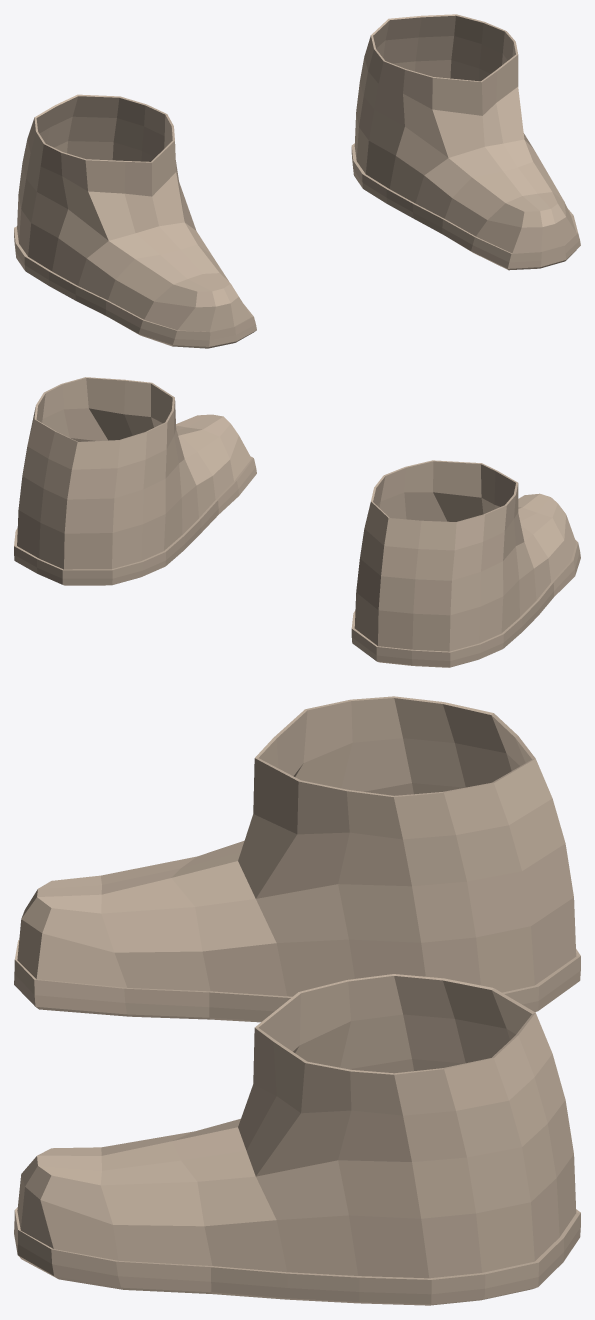
Rendered from Shoes3.fbx.
3 views of the same model, one above another, from view 1: azimuth 30°, elevation 25°; view 2: azimuth 150°, elevation 25°; view 3: azimuth 270°, elevation 25° (orthographic). The views are drawn at different scales.
Visible parts, largest first — view 1: Shoes3; view 2: Shoes3; view 3: Shoes3.
Part boxes in pixels (x1,y1,x2,y2): Shoes3: (14,14,580,348); Shoes3: (14,377,580,667); Shoes3: (14,696,580,1305).
Size of the model in its own units: 94.85 by 25.82 by 58.08.
